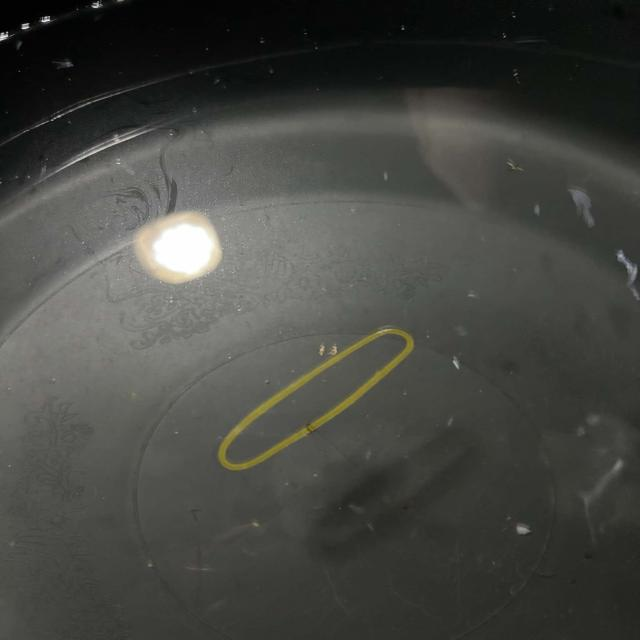Rubberband: (181, 308, 450, 488)
